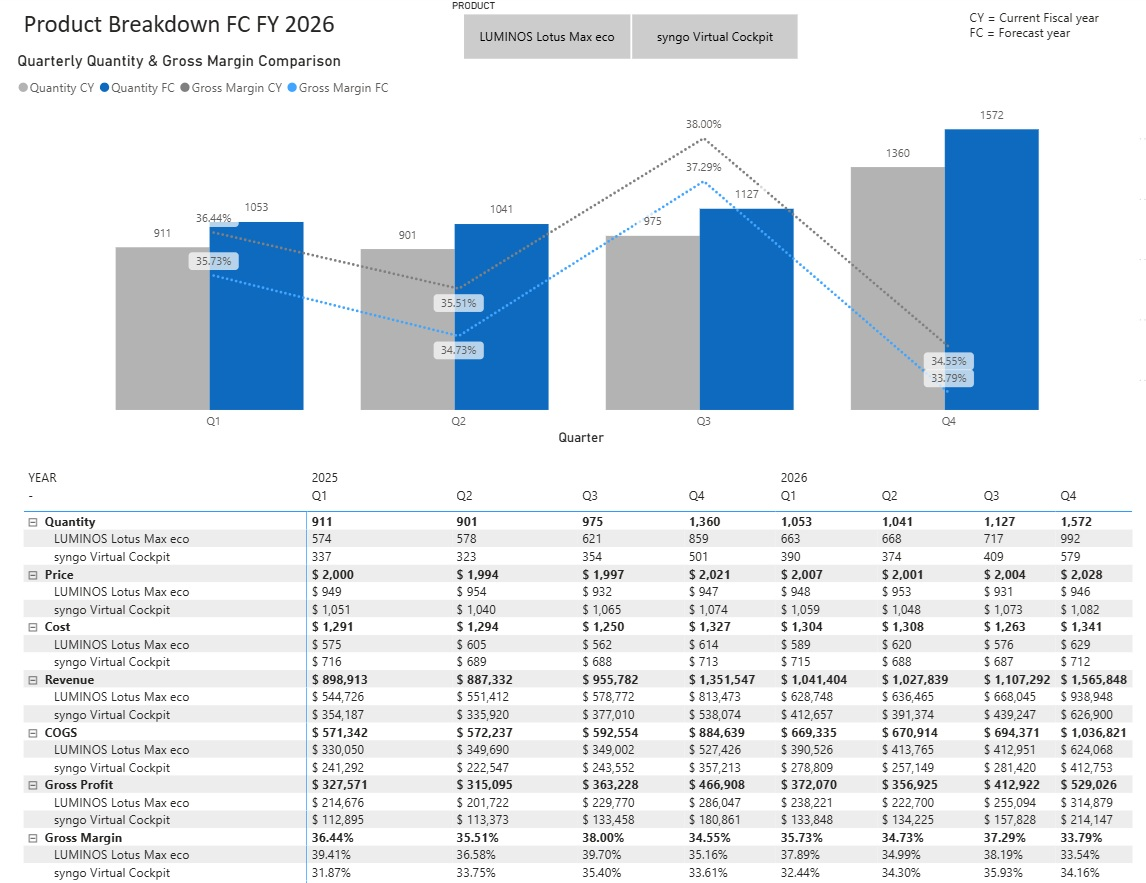

Layout of this report page (visuals, bound fields, positions):
{"tool":"powerbi","page":{"name":"P&L Forecast","canvas":[1280,720],"ordinal":0},"visuals":[{"type":"pivotTable","fields":{"Rows":["V_SALESFORECAST_PER_PRODUCT_Q_ALL_STD.Business Line","V_SALESFORECAST_PER_PRODUCT_Q_ALL_STD.PRODUCT","V_SALESFORECAST_PER_PRODUCT_Q_ALL_STD.SEASON"],"Values":["Sum(V_SALESFORECAST_PER_PRODUCT_Q_ALL_STD.CY_QUANTITY)","Sum(V_SALESFORECAST_PER_PRODUCT_Q_ALL_STD.FC_QUANTITY)","Sum(V_SALESFORECAST_PER_PRODUCT_Q_ALL_STD.CY_PRICE)","Sum(V_SALESFORECAST_PER_PRODUCT_Q_ALL_STD.FC_PRICE)","Sum(V_SALESFORECAST_PER_PRODUCT_Q_ALL_STD.CY_COST)","Sum(V_SALESFORECAST_PER_PRODUCT_Q_ALL_STD.FC_COST)","Sum(V_SALESFORECAST_PER_PRODUCT_Q_ALL_STD.CY_REVENUE)","Sum(V_SALESFORECAST_PER_PRODUCT_Q_ALL_STD.FC_REVENUE)","Sum(V_SALESFORECAST_PER_PRODUCT_Q_ALL_STD.CY_COGS)","Sum(V_SALESFORECAST_PER_PRODUCT_Q_ALL_STD.FC_COGS)","Sum(V_SALESFORECAST_PER_PRODUCT_Q_ALL_STD.CY_GP)","Sum(V_SALESFORECAST_PER_PRODUCT_Q_ALL_STD.FC_GP)"]},"box":[24.1,409,1232.9,299.7],"z":0},{"type":"textbox","box":[1047.5,23.1,209.5,59.1],"z":1000},{"type":"lineClusteredColumnComboChart","title":"Quarterly Quantity & Gross Margin Comparison","fields":{"Category":["V_SALESFORECAST_PER_PRODUCT_Q_ALL_STD.SEASON"],"Y":["Sum(V_SALESFORECAST_PER_PRODUCT_Q_ALL_STD.CY_QUANTITY)","Sum(V_SALESFORECAST_PER_PRODUCT_Q_ALL_STD.FC_QUANTITY)"],"Y2":["V_SALESFORECAST_PER_PRODUCT_Q_ALL_STD.GM CY (weighted)","V_SALESFORECAST_PER_PRODUCT_Q_ALL_STD.GM FC"]},"box":[338.8,109.3,918.2,283.7],"z":2000},{"type":"slicer","title":"Product","fields":{"Values":["V_SALESFORECAST_PER_PRODUCT_Q_ALL_STD.PRODUCT_CATEGORY","V_SALESFORECAST_PER_PRODUCT_Q_ALL_STD.PRODUCT"]},"box":[24.1,109.3,288.7,283.7],"z":3000},{"type":"textbox","box":[24.1,14,375.9,68.2],"z":4000}]}

Visuals, with their boxes on the page's 1280x720 design canvas (x1, y1, x2, y2). These are canvas units, not pixel positions in the 1146x883 screenshot, which may show the page scaled, cropped or inside an application window:
pivotTable - V_SALESFORECAST_PER_PRODUCT_Q_ALL_STD.Business Line x V_SALESFORECAST_PER_PRODUCT_Q_ALL_STD.PRODUCT: x1=24 y1=409 x2=1257 y2=709
textbox: x1=1048 y1=23 x2=1257 y2=82
"Quarterly Quantity & Gross Margin Comparison" lineClusteredColumnComboChart: x1=339 y1=109 x2=1257 y2=393
"Product" slicer: x1=24 y1=109 x2=313 y2=393
textbox: x1=24 y1=14 x2=400 y2=82
